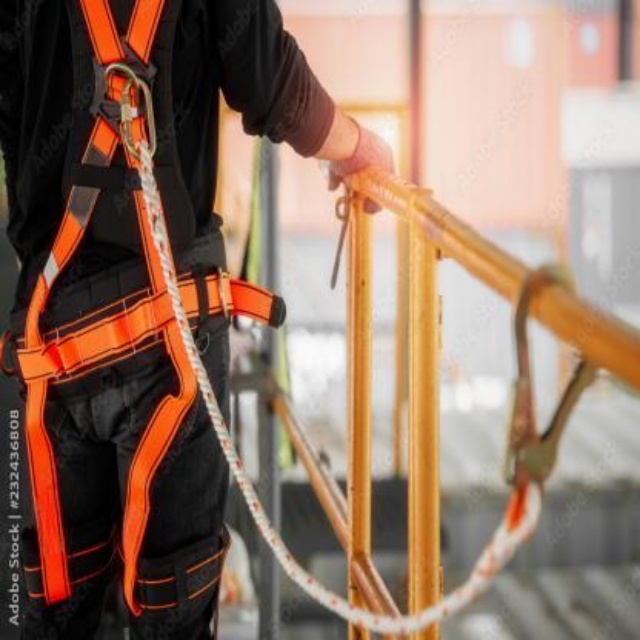Arnes_seguridad: (0, 0, 286, 606)
